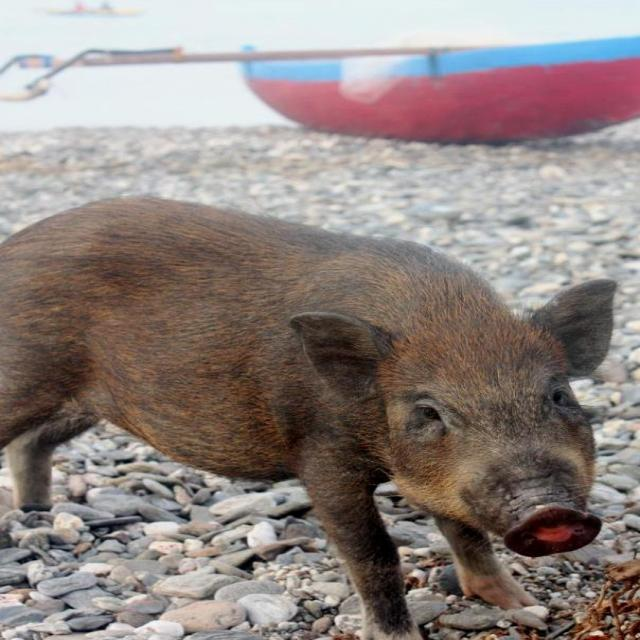pig: (2, 198, 614, 639)
